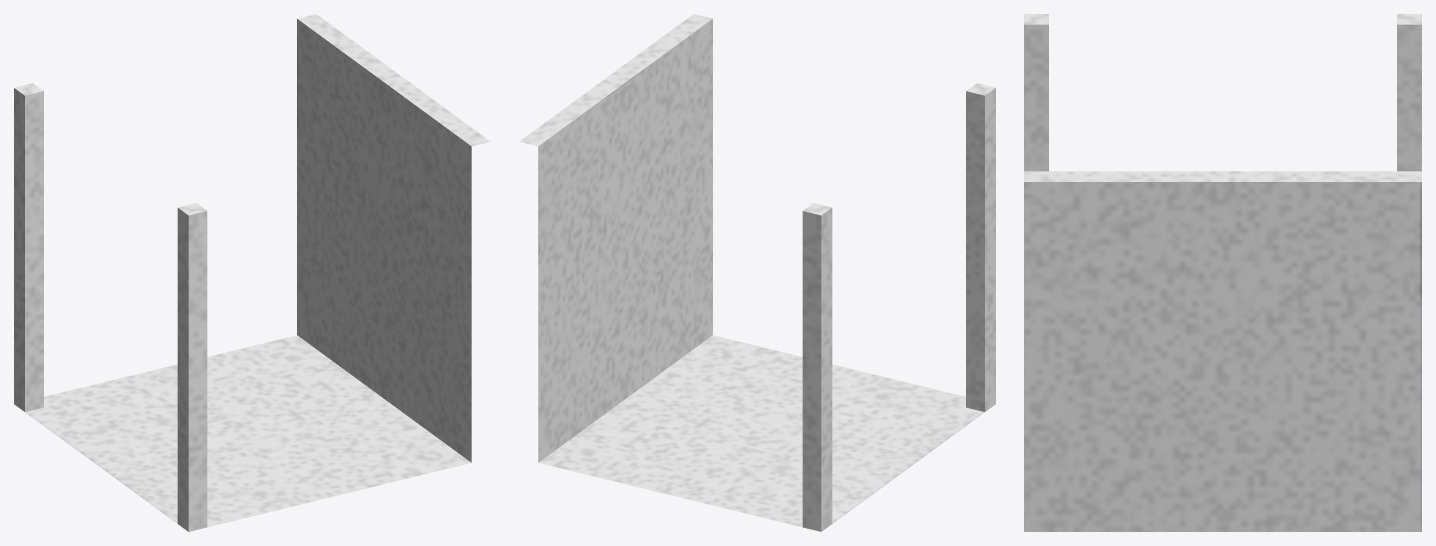
The model's file is hallWide3way.fbx.
3 views of the same model, side by side, from view 1: azimuth 30°, elevation 25°; view 2: azimuth 150°, elevation 25°; view 3: azimuth 270°, elevation 25° (orthographic). The views are drawn at different scales.
Parts seen in each view (by area): view 1: WideHall3Way1; view 2: WideHall3Way1; view 3: WideHall3Way1.
Part boxes in pixels (left/top/right/bottom): WideHall3Way1: left=14, top=14, right=490, bottom=531; WideHall3Way1: left=519, top=14, right=995, bottom=531; WideHall3Way1: left=1024, top=14, right=1421, bottom=531.
Bounding box in the file's own units: 4 × 4 × 4.
